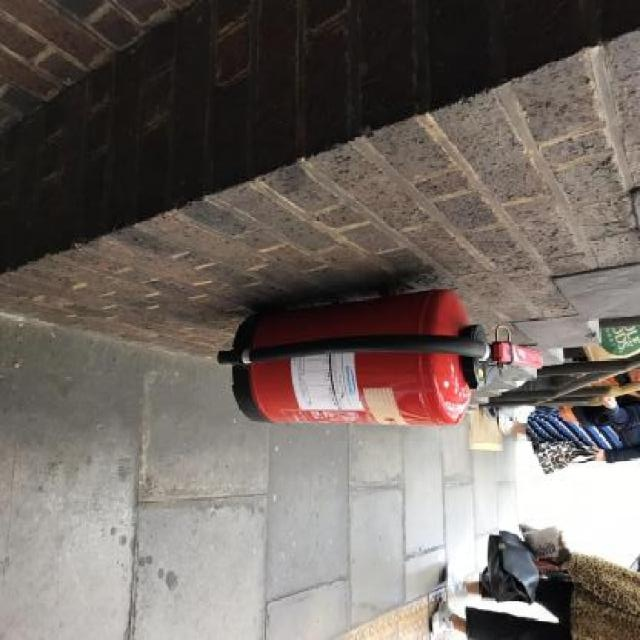fire extinguisher: (216, 287, 544, 425)
